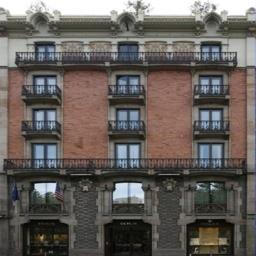building: (6, 1, 247, 256)
